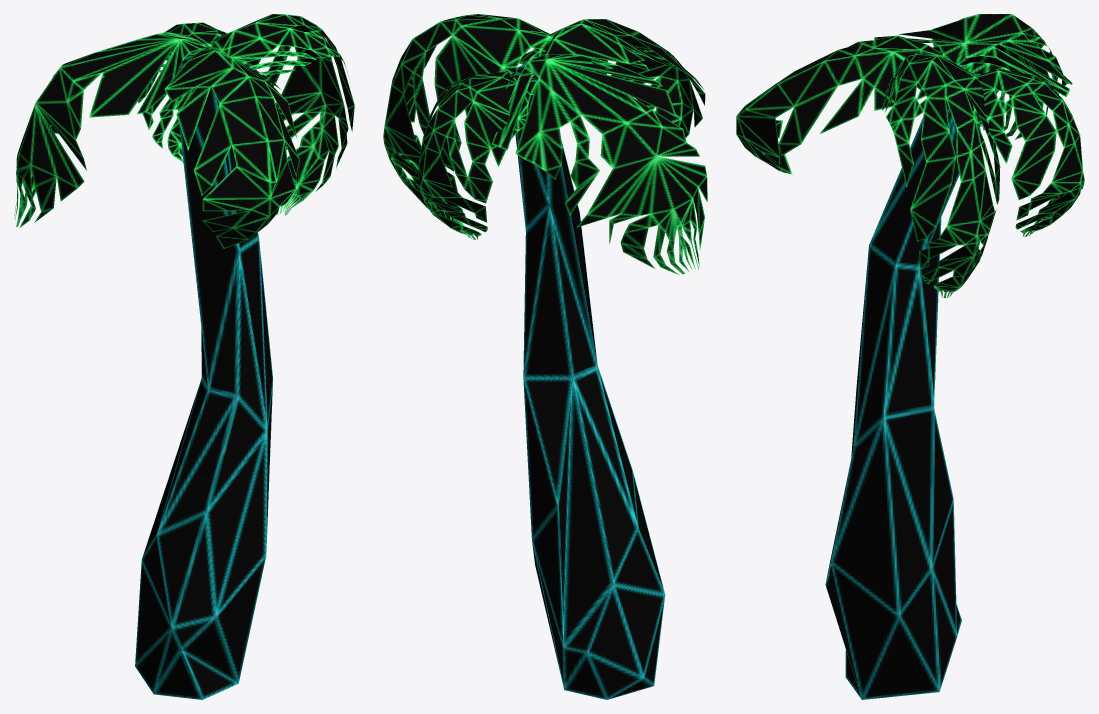
The model's file is palm5.FBX.
The picture shows the model from 3 angles, left to right: view 1: azimuth 30°, elevation 25°; view 2: azimuth 150°, elevation 25°; view 3: azimuth 270°, elevation 25°; orthographic projection. The views are drawn at different scales.
Parts seen in each view (by area): view 1: palm5; view 2: palm5; view 3: palm5.
Boxes of the visible parts, x1,y1,x2,y2 form: palm5: [14, 14, 354, 699]; palm5: [383, 14, 707, 699]; palm5: [736, 14, 1084, 699].
Bounding box in the file's own units: 7.41 × 6.78 × 14.3.
